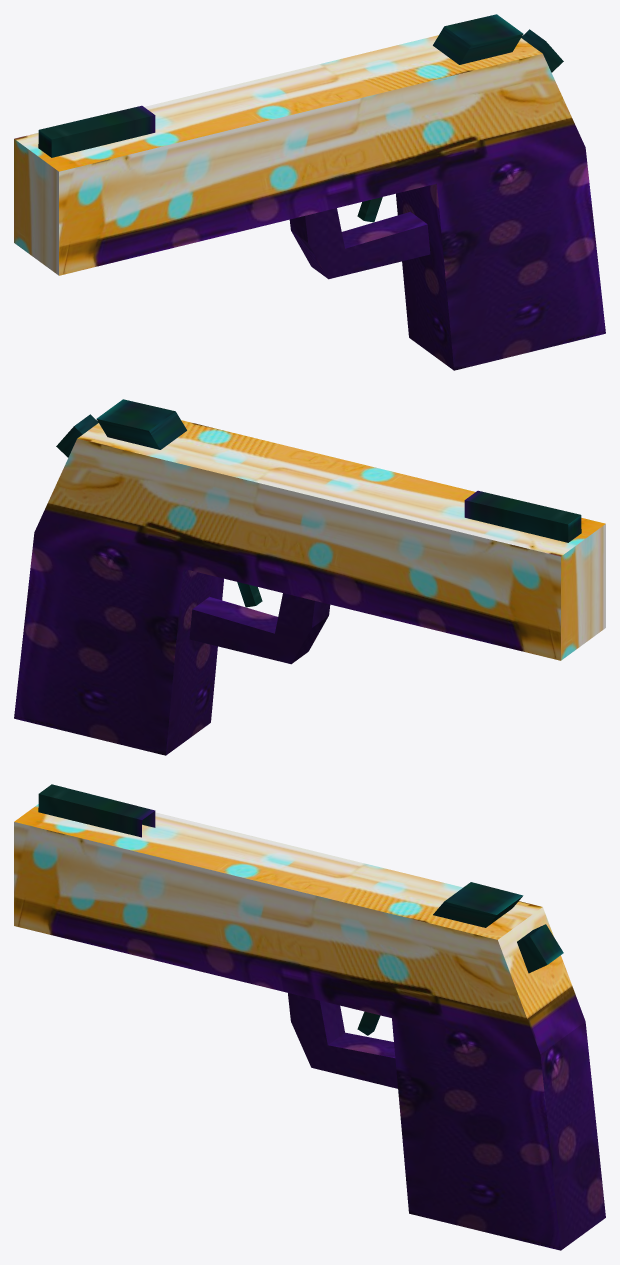
Rendered from geo_Gun.fbx.
The picture shows the model from 3 angles, top to bottom: view 1: azimuth 30°, elevation 25°; view 2: azimuth 150°, elevation 25°; view 3: azimuth 330°, elevation 25°; orthographic projection.
Visible parts, largest first — view 1: geo_Gun; view 2: geo_Gun; view 3: geo_Gun.
Boxes of the visible parts, <box> form: geo_Gun: <box>14,14,605,370</box>; geo_Gun: <box>14,399,605,755</box>; geo_Gun: <box>14,784,605,1250</box>.
Size of the model in its own units: 139 by 76.17 by 19.84.
Materials: 1 (1 with a texture image).
